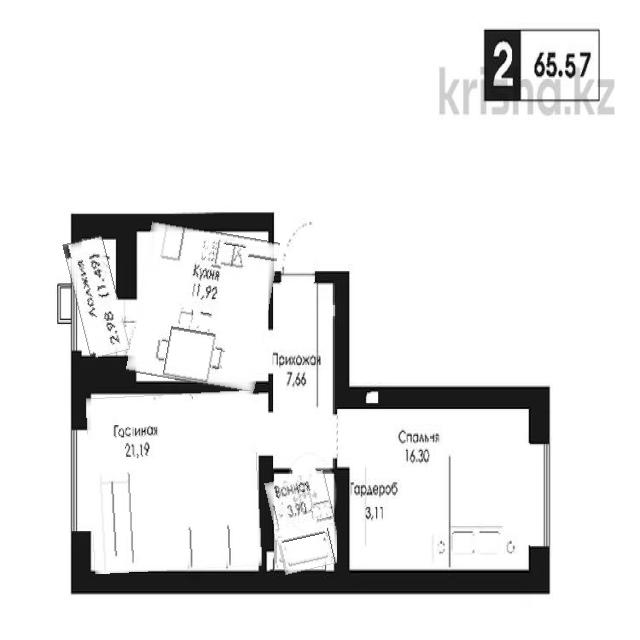balcony: (63, 237, 130, 357)
bathroom: (264, 470, 344, 575)
hallway: (274, 282, 334, 470)
kitchen: (126, 220, 279, 393)
living_room: (86, 390, 262, 574), (338, 409, 530, 572)
